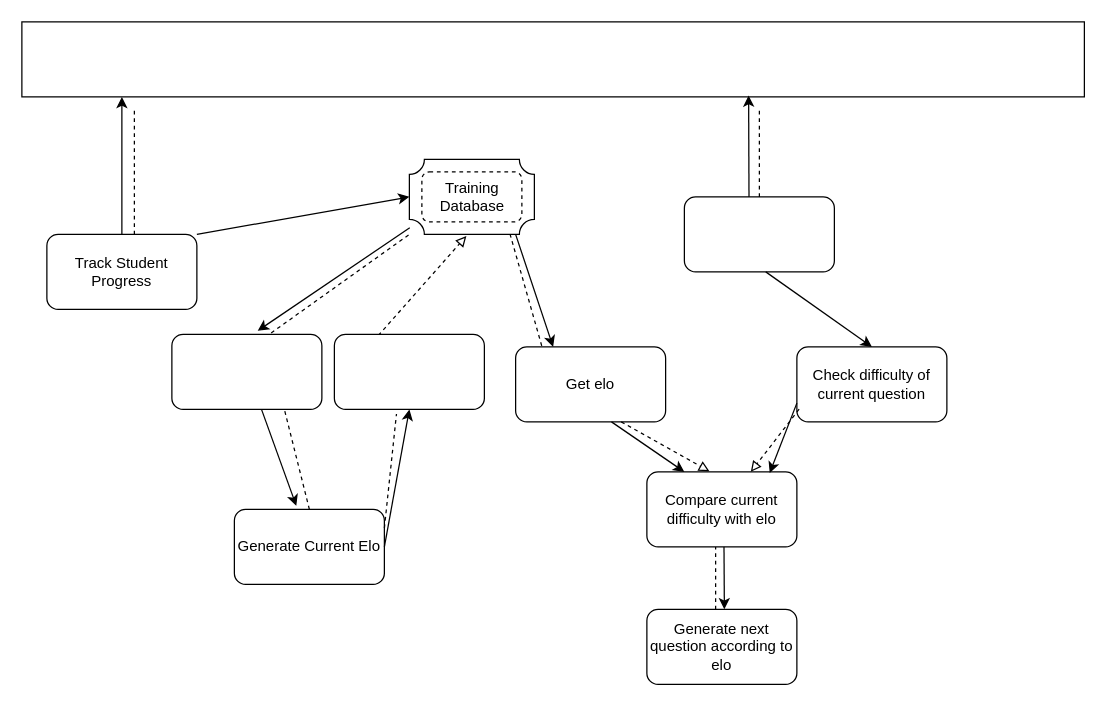
The diagram is 1106 pixels wide and 706 high, and some of its shapes have lost their labels. The shapes that lost their labels are listed below. From the top down, each one's centre as x and y in pixels, then its label:
point 552,59: Admin GUI
point 758,234: Monitor Current Question
point 246,371: View Summary Report
point 408,371: Update elo
